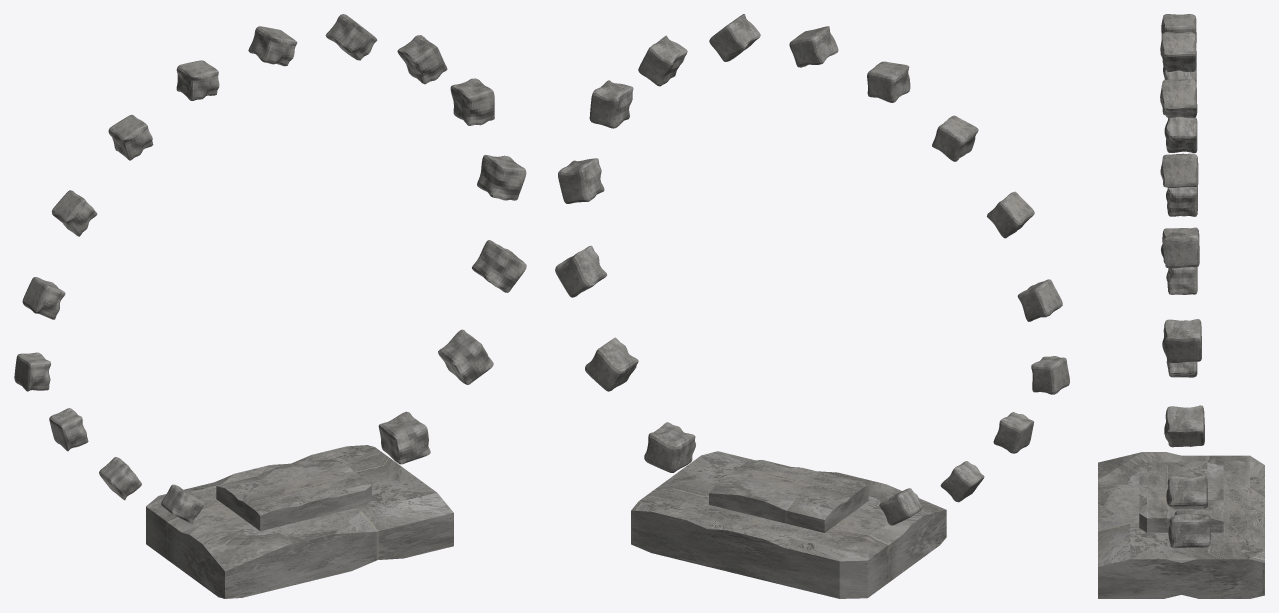
The model's file is Portal_Structure.gltf.
3 renders of one model, left to right at view 1: azimuth 30°, elevation 25°; view 2: azimuth 150°, elevation 25°; view 3: azimuth 270°, elevation 25°, orthographic. The views are drawn at different scales.
Visible parts, largest first — view 1: Cube.002, Cube.001, Cube.017, Cube.016, Cube.014, Cube.015, Cube.013, Cube.012, Cube.009, Cube.010, Cube.011, Cube.008 (+6 smaller); view 2: Cube.002, Cube.001, Cube.017, Cube.016, Cube.014, Cube.013, Cube.015, Cube.012, Cube.009, Cube.010, Cube.008, Cube.011 (+6 smaller); view 3: Cube.002, Cube.001, Cube.014, Cube.015, Cube.017, Cube.013, Cube.010, Cube.016, Cube.011, Cube.012, Cube.006, Cube.005 (+4 smaller).
Boxes of the visible parts, x1=… form: Cube.002: x1=146, y1=445, x2=453, y2=598; Cube.001: x1=216, y1=459, x2=371, y2=530; Cube.017: x1=378, y1=411, x2=430, y2=464; Cube.016: x1=438, y1=329, x2=493, y2=384; Cube.014: x1=477, y1=155, x2=526, y2=200; Cube.015: x1=472, y1=240, x2=526, y2=292; Cube.013: x1=450, y1=78, x2=494, y2=125; Cube.012: x1=397, y1=35, x2=447, y2=84; Cube.009: x1=176, y1=60, x2=219, y2=100; Cube.010: x1=248, y1=26, x2=297, y2=66; Cube.011: x1=325, y1=14, x2=377, y2=60; Cube.008: x1=108, y1=115, x2=153, y2=160; Cube.002: x1=631, y1=451, x2=946, y2=598; Cube.001: x1=709, y1=460, x2=868, y2=532; Cube.017: x1=644, y1=422, x2=695, y2=472; Cube.016: x1=585, y1=337, x2=638, y2=391; Cube.014: x1=558, y1=158, x2=604, y2=203; Cube.013: x1=589, y1=80, x2=633, y2=128; Cube.015: x1=555, y1=245, x2=606, y2=297; Cube.012: x1=638, y1=35, x2=687, y2=86; Cube.009: x1=867, y1=61, x2=910, y2=102; Cube.010: x1=789, y1=26, x2=838, y2=67; Cube.008: x1=932, y1=115, x2=978, y2=161; Cube.011: x1=709, y1=14, x2=760, y2=61; Cube.002: x1=1098, y1=452, x2=1264, y2=598; Cube.001: x1=1139, y1=462, x2=1223, y2=532; Cube.014: x1=1162, y1=319, x2=1201, y2=362; Cube.015: x1=1164, y1=405, x2=1204, y2=446; Cube.017: x1=1168, y1=509, x2=1210, y2=548; Cube.013: x1=1161, y1=227, x2=1199, y2=268; Cube.010: x1=1160, y1=32, x2=1196, y2=71; Cube.016: x1=1166, y1=474, x2=1207, y2=509; Cube.011: x1=1160, y1=79, x2=1197, y2=117; Cube.012: x1=1160, y1=153, x2=1198, y2=187; Cube.006: x1=1164, y1=116, x2=1197, y2=153; Cube.005: x1=1166, y1=186, x2=1197, y2=216.
Size of the model in its own units: 4.13 by 4.11 by 1.24.
1 material, 1 textured.
